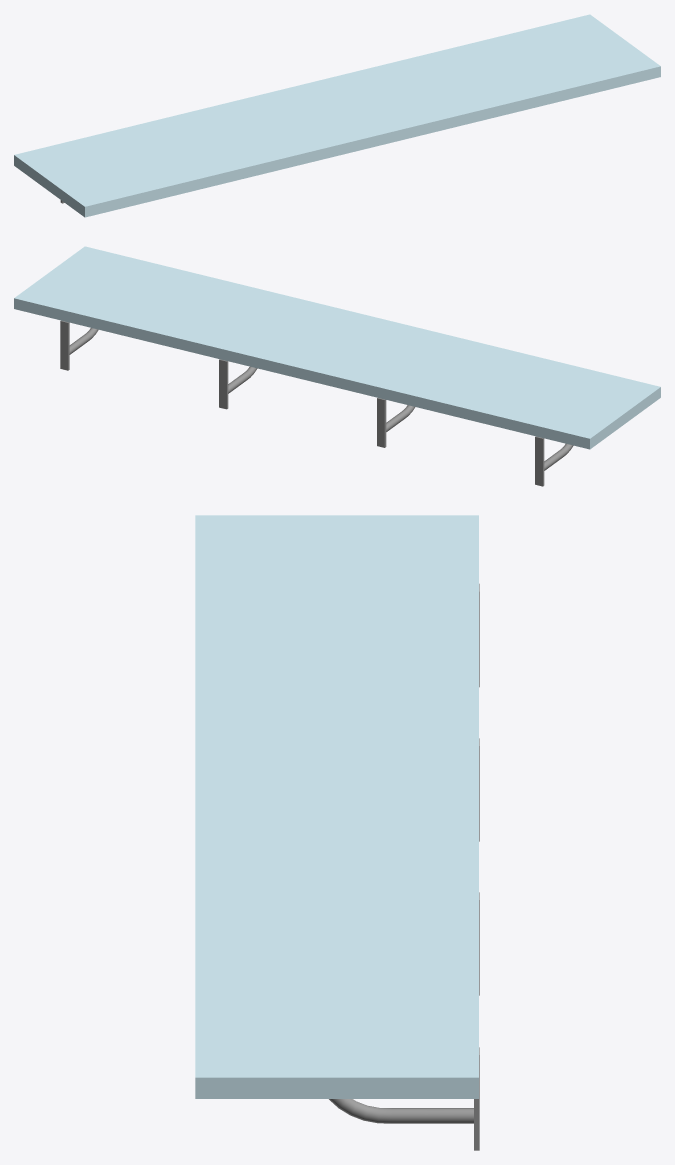
3 views of the same model, one above another, from view 1: azimuth 30°, elevation 25°; view 2: azimuth 150°, elevation 25°; view 3: azimuth 270°, elevation 25° (orthographic). The views are drawn at different scales.
Visible parts, largest first — view 1: table4; view 2: table4; view 3: table4.
Part boxes in pixels (left/top/right/bottom): table4: left=14, top=14, right=660, bottom=217; table4: left=14, top=246, right=660, bottom=486; table4: left=195, top=515, right=479, bottom=1150.
Size of the model in its own units: 210 by 20.58 by 44.8.
